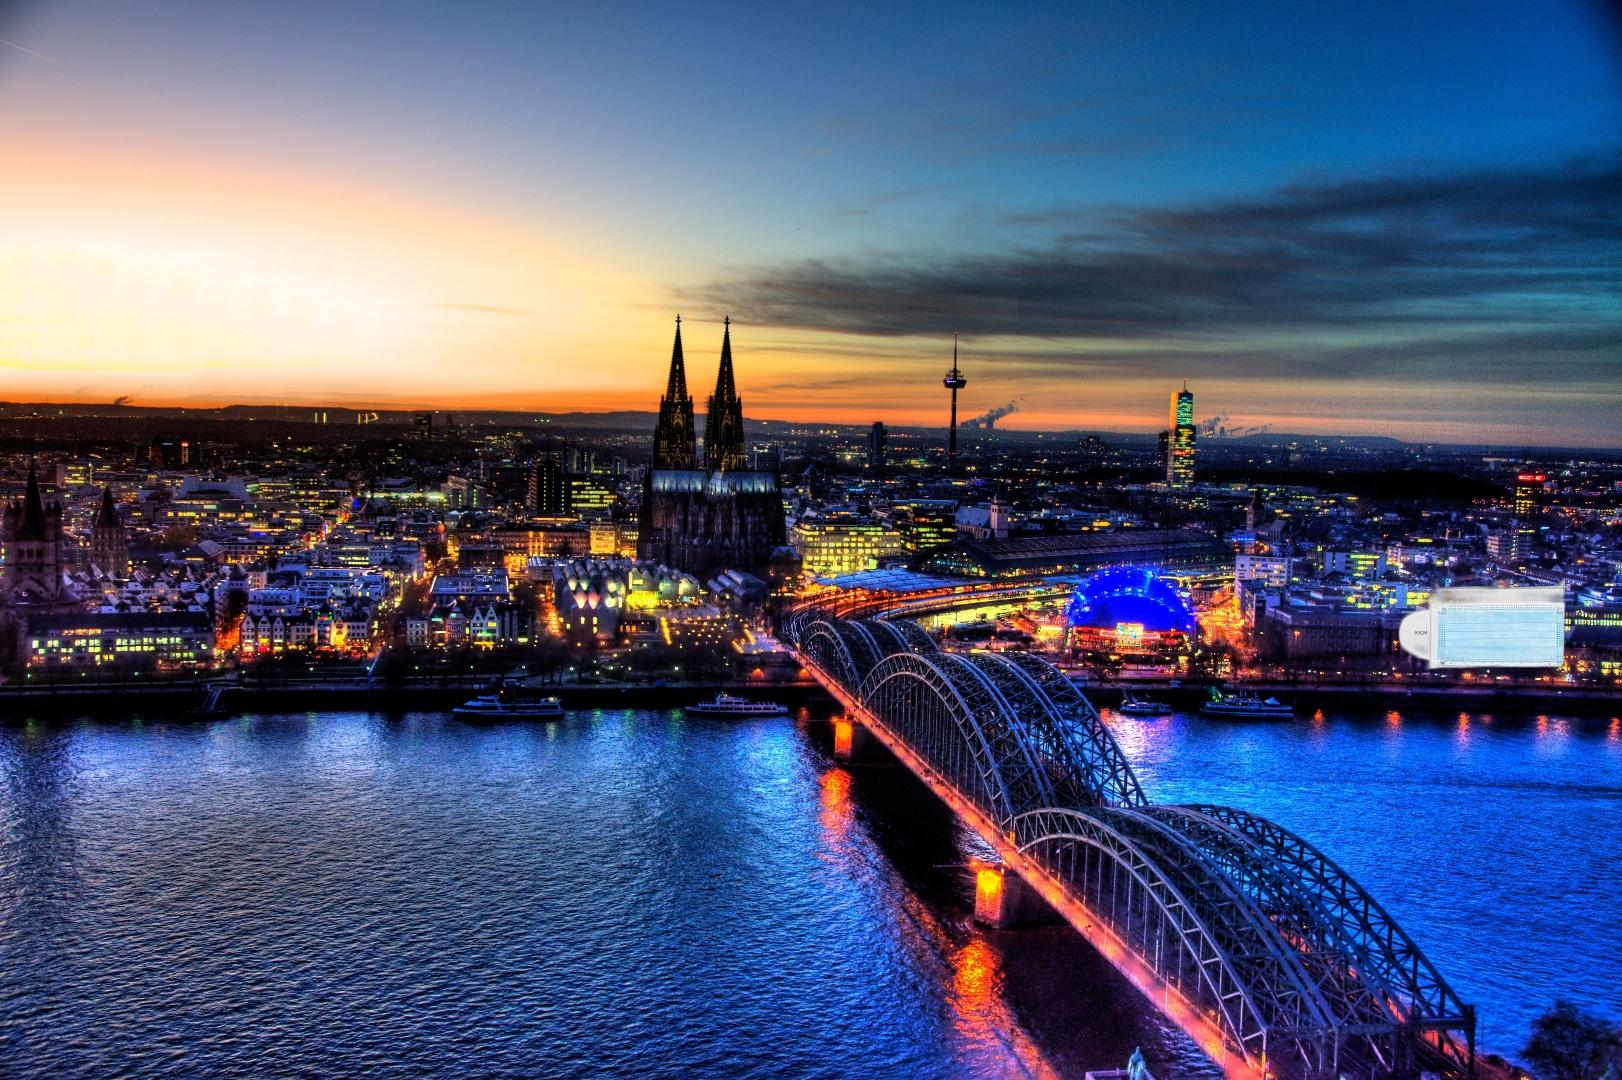trash: (1389, 515, 1569, 676)
